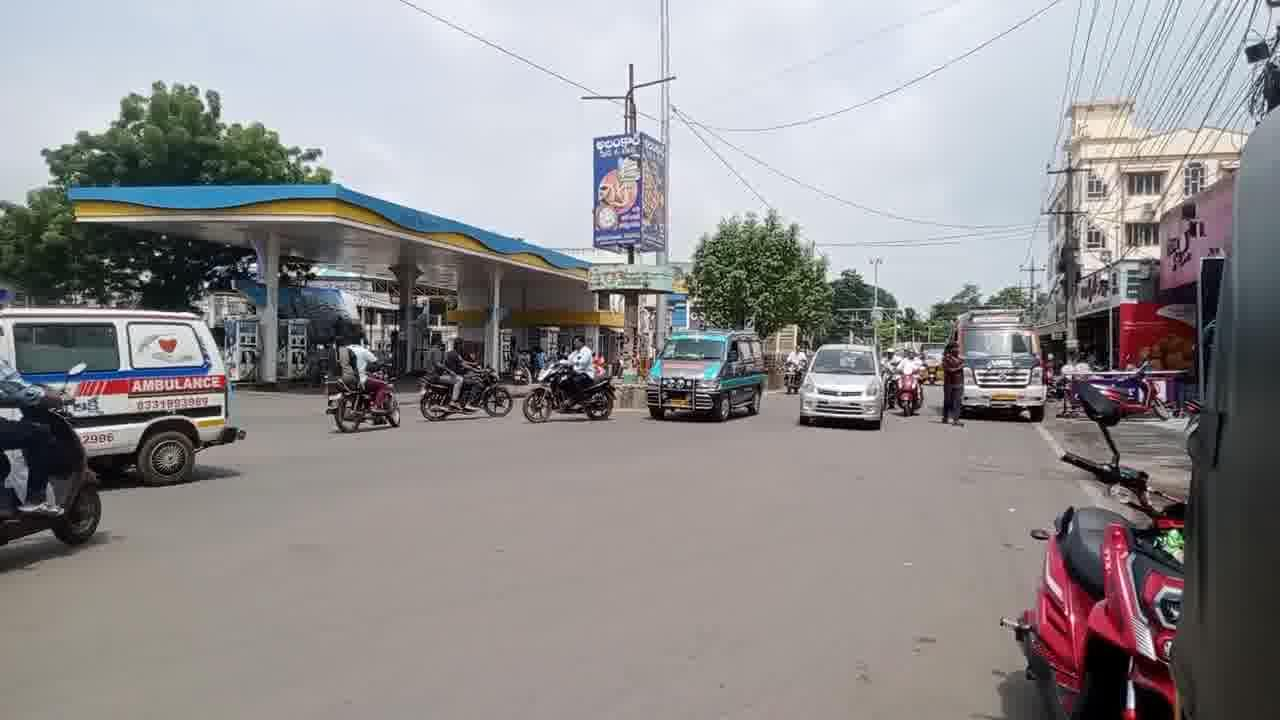AMBULANCE: (2, 301, 241, 488), (956, 296, 1060, 428), (651, 321, 760, 433)
